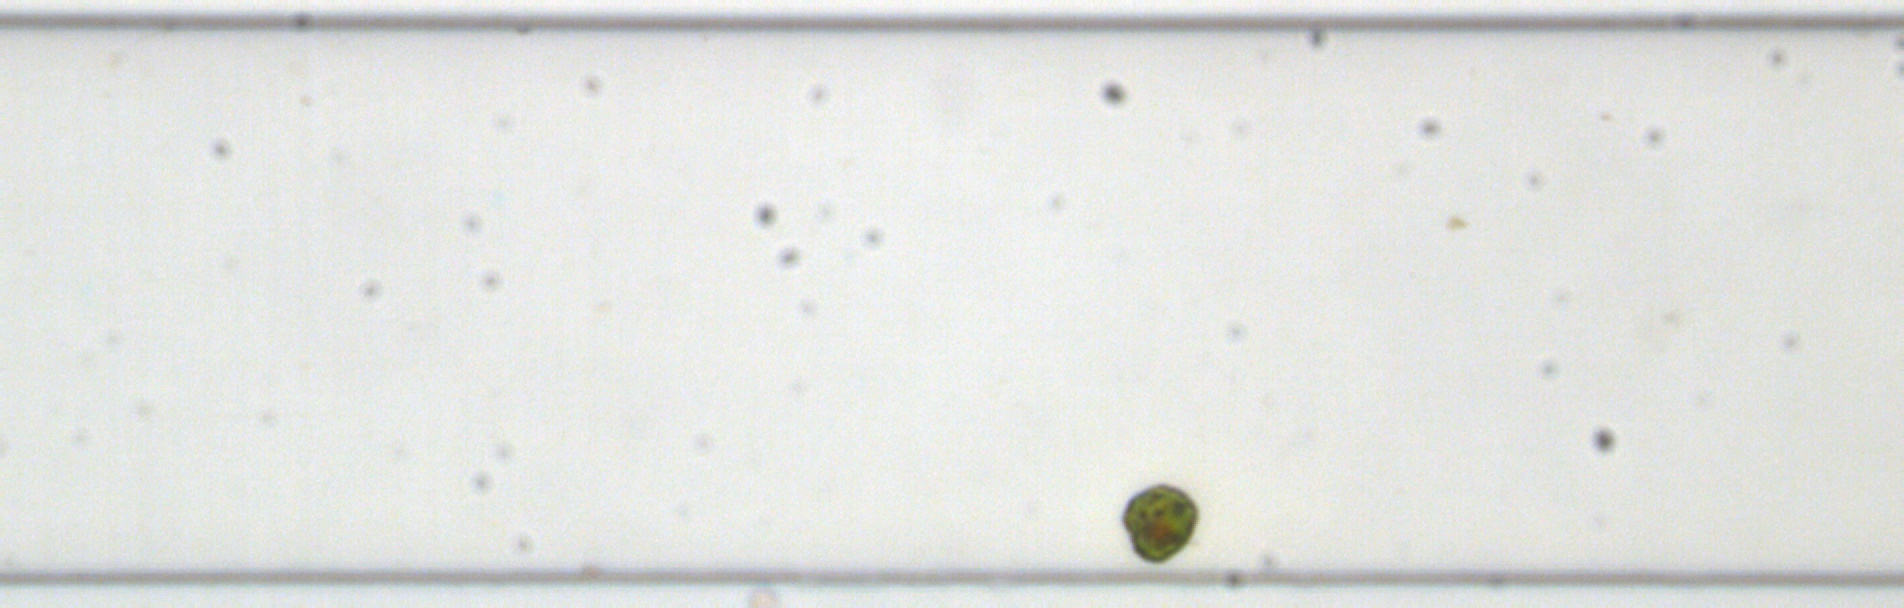Haematococcus: (1117, 479, 1202, 561)
